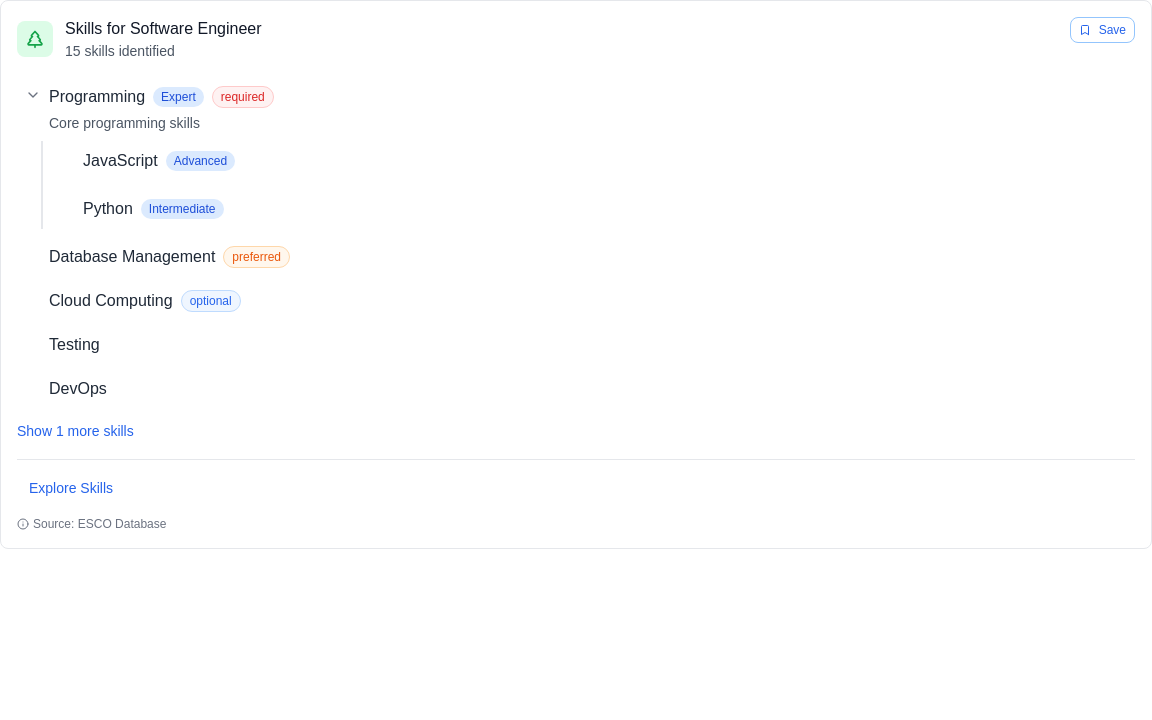
SkillTreeMessage › expands and collapses skill nodes
This screenshot has width=1152, height=720.
Check: the text "JavaScript" is shown, box [83,149,158,173]
Check: the text "Python" is shown, box [83,197,133,221]
// Click to collapse
Click the text "Programming". click: {"x": 161, "y": 97}
box: [49,86,274,108]
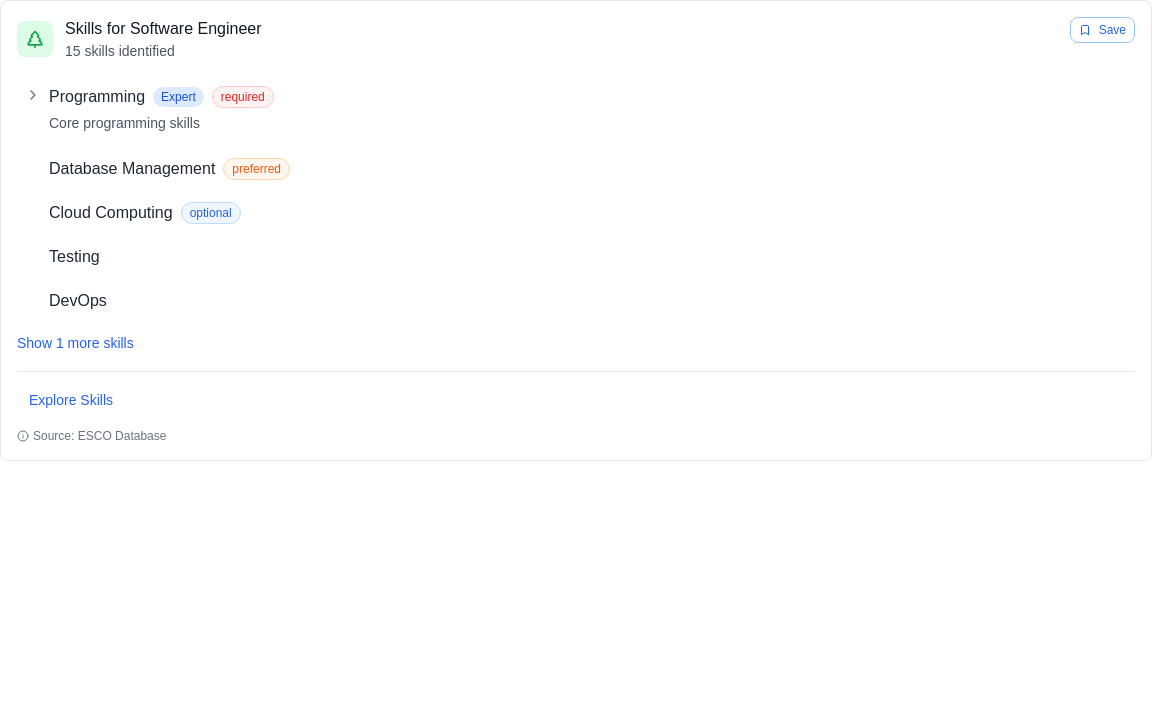
Check: the text "JavaScript" is gone
Check: the text "Python" is gone
// Click to expand again
Click the text "Programming". click: {"x": 161, "y": 97}
box: [49,86,274,108]
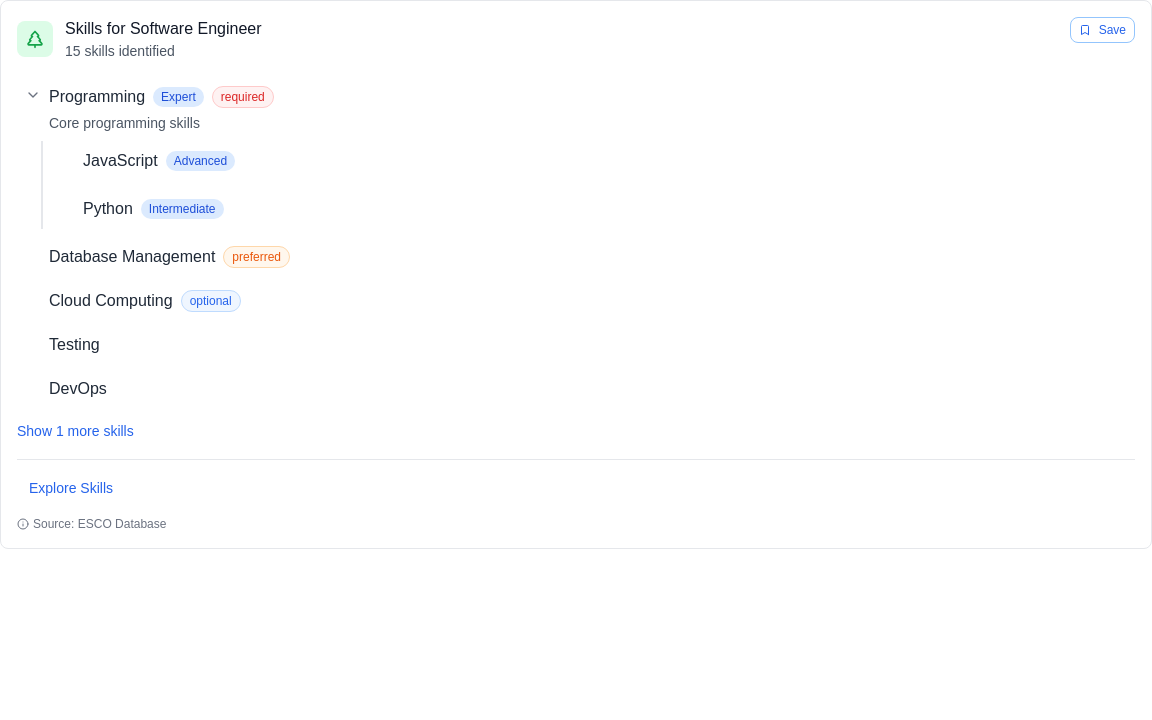
Check: the text "JavaScript" is shown, box [83,149,158,173]
Check: the text "Python" is shown, box [83,197,133,221]
